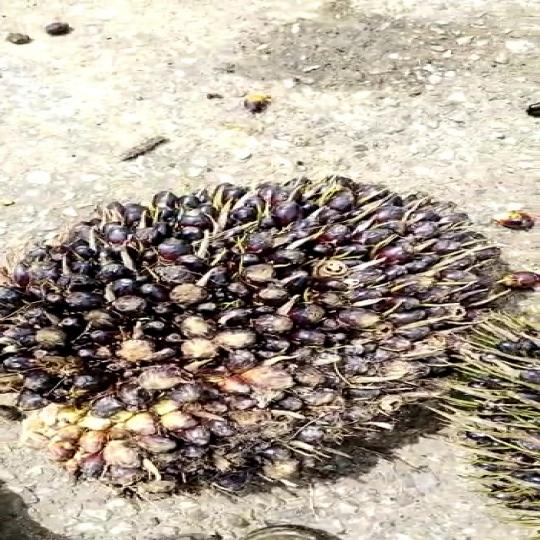mentah: (7, 171, 506, 488)
